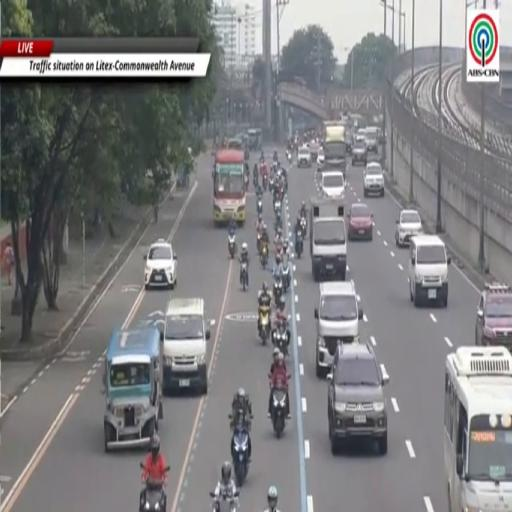bus: (444, 347, 511, 511), (213, 150, 245, 225)
car: (328, 342, 389, 454), (315, 281, 363, 378), (476, 283, 511, 350), (144, 239, 176, 290), (395, 210, 422, 247), (348, 203, 373, 241), (364, 163, 384, 197), (321, 171, 345, 198), (352, 137, 366, 166), (366, 127, 378, 153), (297, 147, 311, 167), (310, 141, 320, 161), (346, 130, 353, 154), (317, 148, 324, 169), (357, 128, 365, 138)
jeepney: (104, 327, 163, 452), (248, 130, 261, 151)
motorcycle: (232, 421, 249, 487), (271, 384, 287, 438), (140, 479, 166, 511), (210, 490, 239, 511), (258, 305, 271, 345), (273, 325, 288, 356), (282, 261, 290, 293), (240, 262, 248, 292), (295, 230, 303, 258), (274, 276, 282, 303), (228, 235, 236, 259), (274, 211, 282, 232), (260, 245, 267, 268), (300, 216, 306, 237), (276, 244, 284, 259), (282, 239, 288, 258), (257, 198, 263, 215), (269, 176, 275, 193), (274, 201, 281, 215), (262, 174, 268, 190), (257, 232, 261, 253), (244, 148, 250, 162), (245, 174, 249, 191), (286, 151, 291, 164), (254, 173, 258, 188)
truck: (310, 198, 347, 281), (323, 121, 346, 173)
